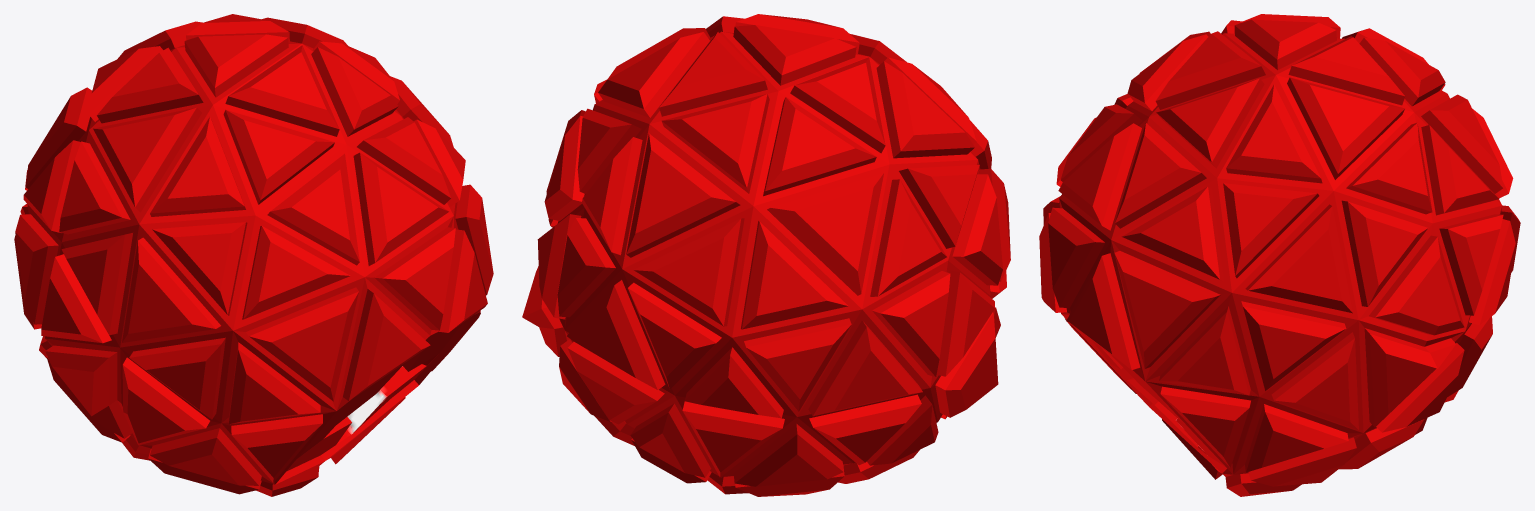
The model's file is HEALTH SPHERE.fbx.
3 renders of one model, left to right at view 1: azimuth 30°, elevation 25°; view 2: azimuth 150°, elevation 25°; view 3: azimuth 270°, elevation 25°, orthographic. The views are drawn at different scales.
Visible parts, largest first — view 1: HEALTH SPHERE RED; view 2: HEALTH SPHERE RED; view 3: HEALTH SPHERE RED.
Part boxes in pixels (x1=…): HEALTH SPHERE RED: x1=14, y1=14, x2=493, y2=496; HEALTH SPHERE RED: x1=522, y1=14, x2=1010, y2=496; HEALTH SPHERE RED: x1=1039, y1=14, x2=1520, y2=496.
Bounding box in the file's own units: 18.16 × 19.02 × 19.06.
